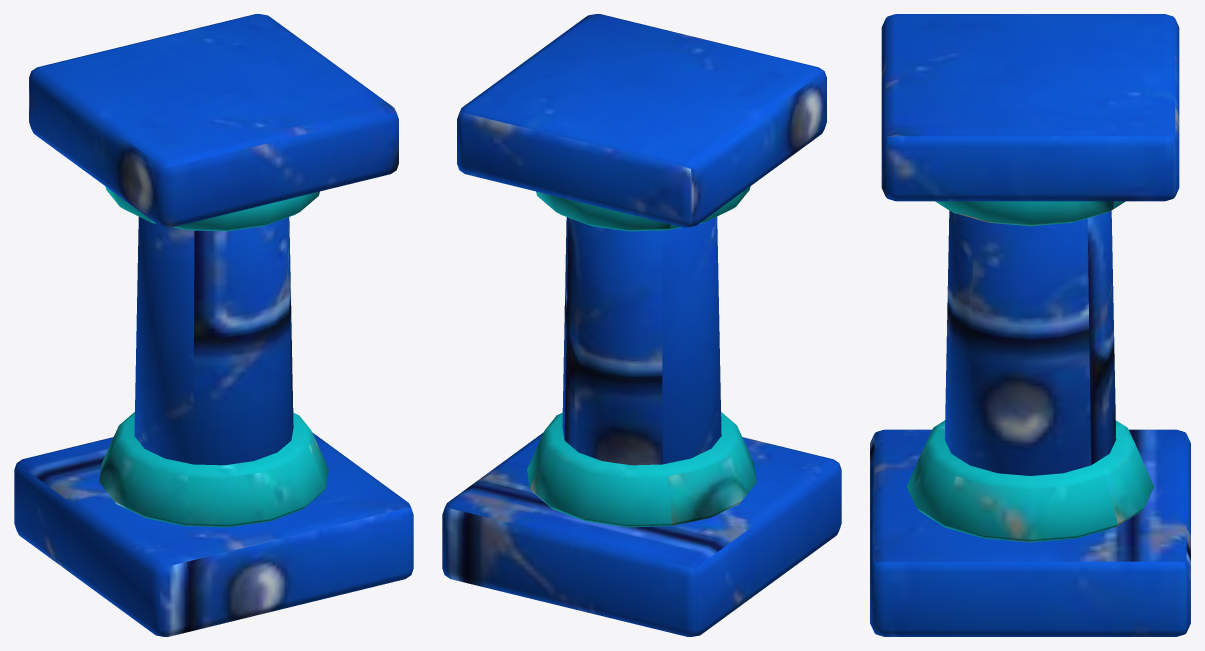
File: pilar.glb
3 renders of one model, left to right at view 1: azimuth 30°, elevation 25°; view 2: azimuth 150°, elevation 25°; view 3: azimuth 270°, elevation 25°, orthographic. The views are drawn at different scales.
Parts seen in each view (by area): view 1: pilar; view 2: pilar; view 3: pilar.
Boxes of the visible parts, x1,y1,x2,y2 form: pilar: (14, 14, 413, 636); pilar: (442, 14, 841, 636); pilar: (870, 14, 1190, 636).
Size of the model in its own units: 0.5773 by 1 by 0.5773.
Materials: 2 (2 with a texture image).
